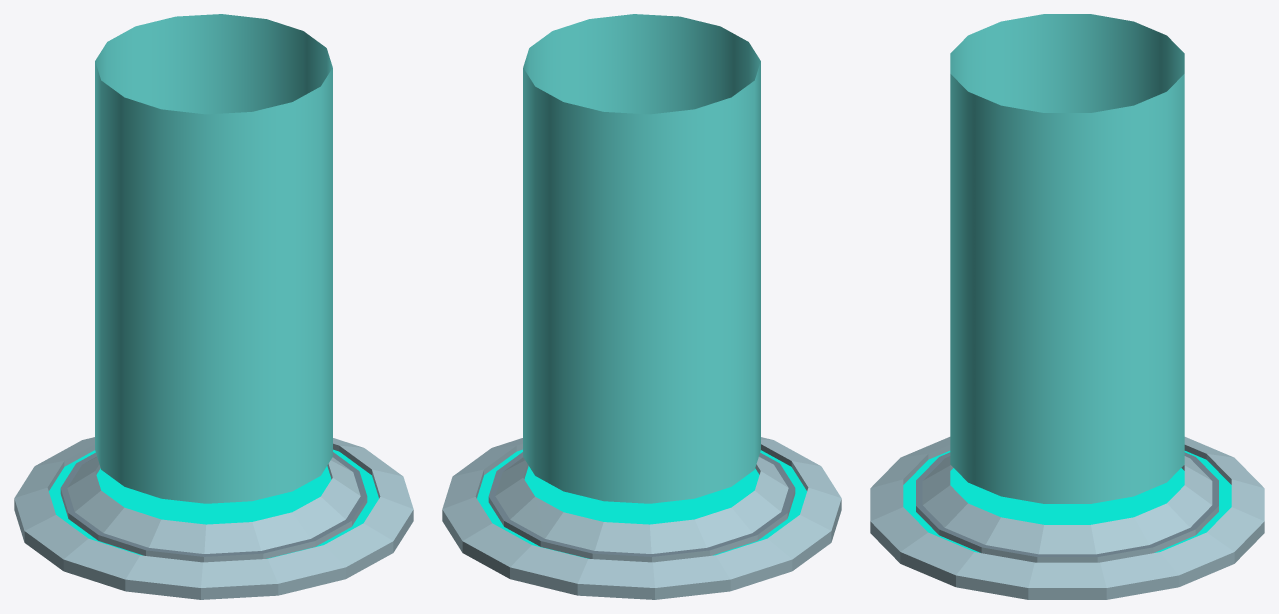
Rendered from hologram monitor.fbx.
3 views of the same model, side by side, from view 1: azimuth 30°, elevation 25°; view 2: azimuth 150°, elevation 25°; view 3: azimuth 270°, elevation 25° (orthographic).
Parts seen in each view (by area): view 1: hologram monitor-hologram, hologram monitor; view 2: hologram monitor-hologram, hologram monitor; view 3: hologram monitor-hologram, hologram monitor.
Part boxes in pixels (<box>): hologram monitor-hologram: <box>95,14,332,503</box>; hologram monitor: <box>14,437,413,599</box>; hologram monitor-hologram: <box>523,14,760,503</box>; hologram monitor: <box>442,437,841,599</box>; hologram monitor-hologram: <box>950,14,1184,503</box>; hologram monitor: <box>870,437,1264,599</box>.
Size of the model in its own units: 60 by 76.12 by 60.
